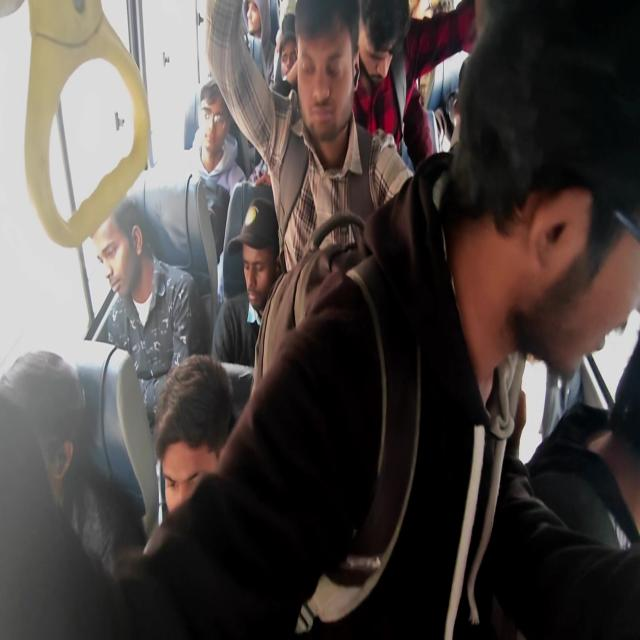person: (445, 1, 639, 395), (527, 422, 640, 614), (0, 332, 89, 530), (157, 363, 236, 532), (312, 33, 364, 164), (94, 194, 145, 306), (235, 206, 280, 302), (362, 4, 403, 92), (202, 94, 232, 160), (233, 0, 276, 37), (279, 36, 306, 90)
